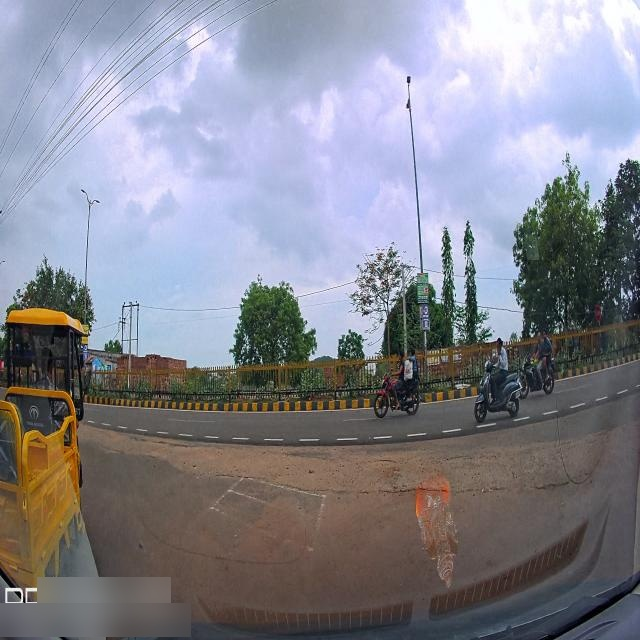pothole: (521, 478, 574, 496), (370, 452, 399, 468), (442, 452, 470, 468)
